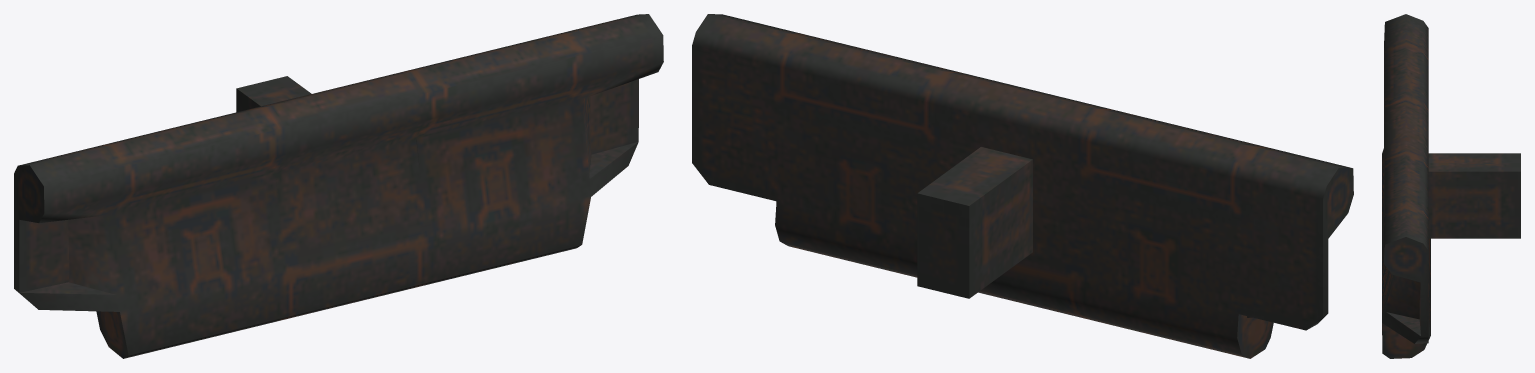
File: track3_segment.glb
The picture shows the model from 3 angles, left to right: view 1: azimuth 30°, elevation 25°; view 2: azimuth 150°, elevation 25°; view 3: azimuth 270°, elevation 25°; orthographic projection. The views are drawn at different scales.
Parts seen in each view (by area): view 1: set_0_group_0; view 2: set_0_group_0; view 3: set_0_group_0.
Part boxes in pixels (x1,y1,x2,y2): set_0_group_0: (14,14,663,358); set_0_group_0: (692,14,1353,358); set_0_group_0: (1382,14,1520,358).
Size of the model in its own units: 0.6054 by 0.1926 by 0.1594.
1 material, 1 textured.
